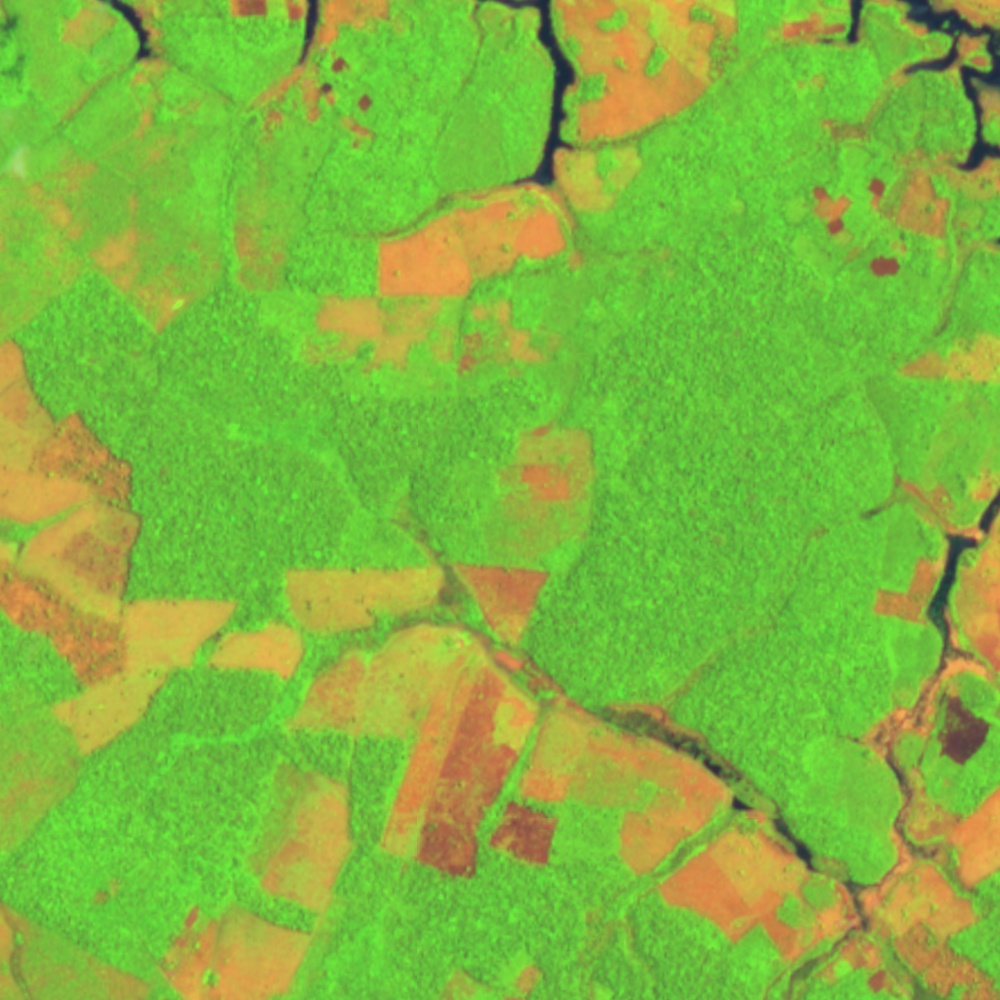legal: (212, 561, 557, 879), (1, 339, 235, 756), (521, 701, 852, 967), (292, 135, 649, 373), (848, 460, 1000, 1000), (783, 1, 1000, 278), (545, 1, 743, 145), (228, 1, 389, 143), (243, 758, 359, 913), (159, 901, 314, 1000), (1, 903, 157, 1000), (51, 1, 174, 99), (894, 328, 1000, 384)
